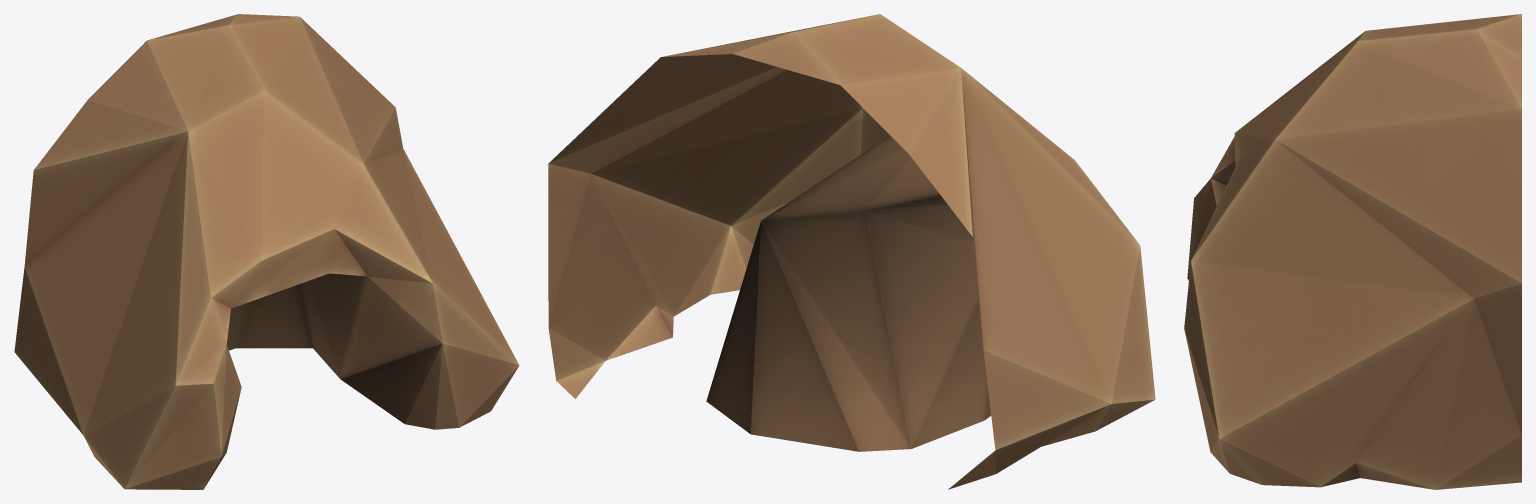
Rendered from Mountain rock_3.fbx.
The picture shows the model from 3 angles, left to right: view 1: azimuth 30°, elevation 25°; view 2: azimuth 150°, elevation 25°; view 3: azimuth 270°, elevation 25°; orthographic projection. The views are drawn at different scales.
Visible parts, largest first — view 1: Mountain rock_3; view 2: Mountain rock_3; view 3: Mountain rock_3.
Boxes of the visible parts, bbox=[...] form: Mountain rock_3: bbox=[14, 14, 519, 489]; Mountain rock_3: bbox=[548, 14, 1155, 489]; Mountain rock_3: bbox=[1184, 14, 1521, 489].
Bounding box in the file's own units: 152 × 124 × 104.
